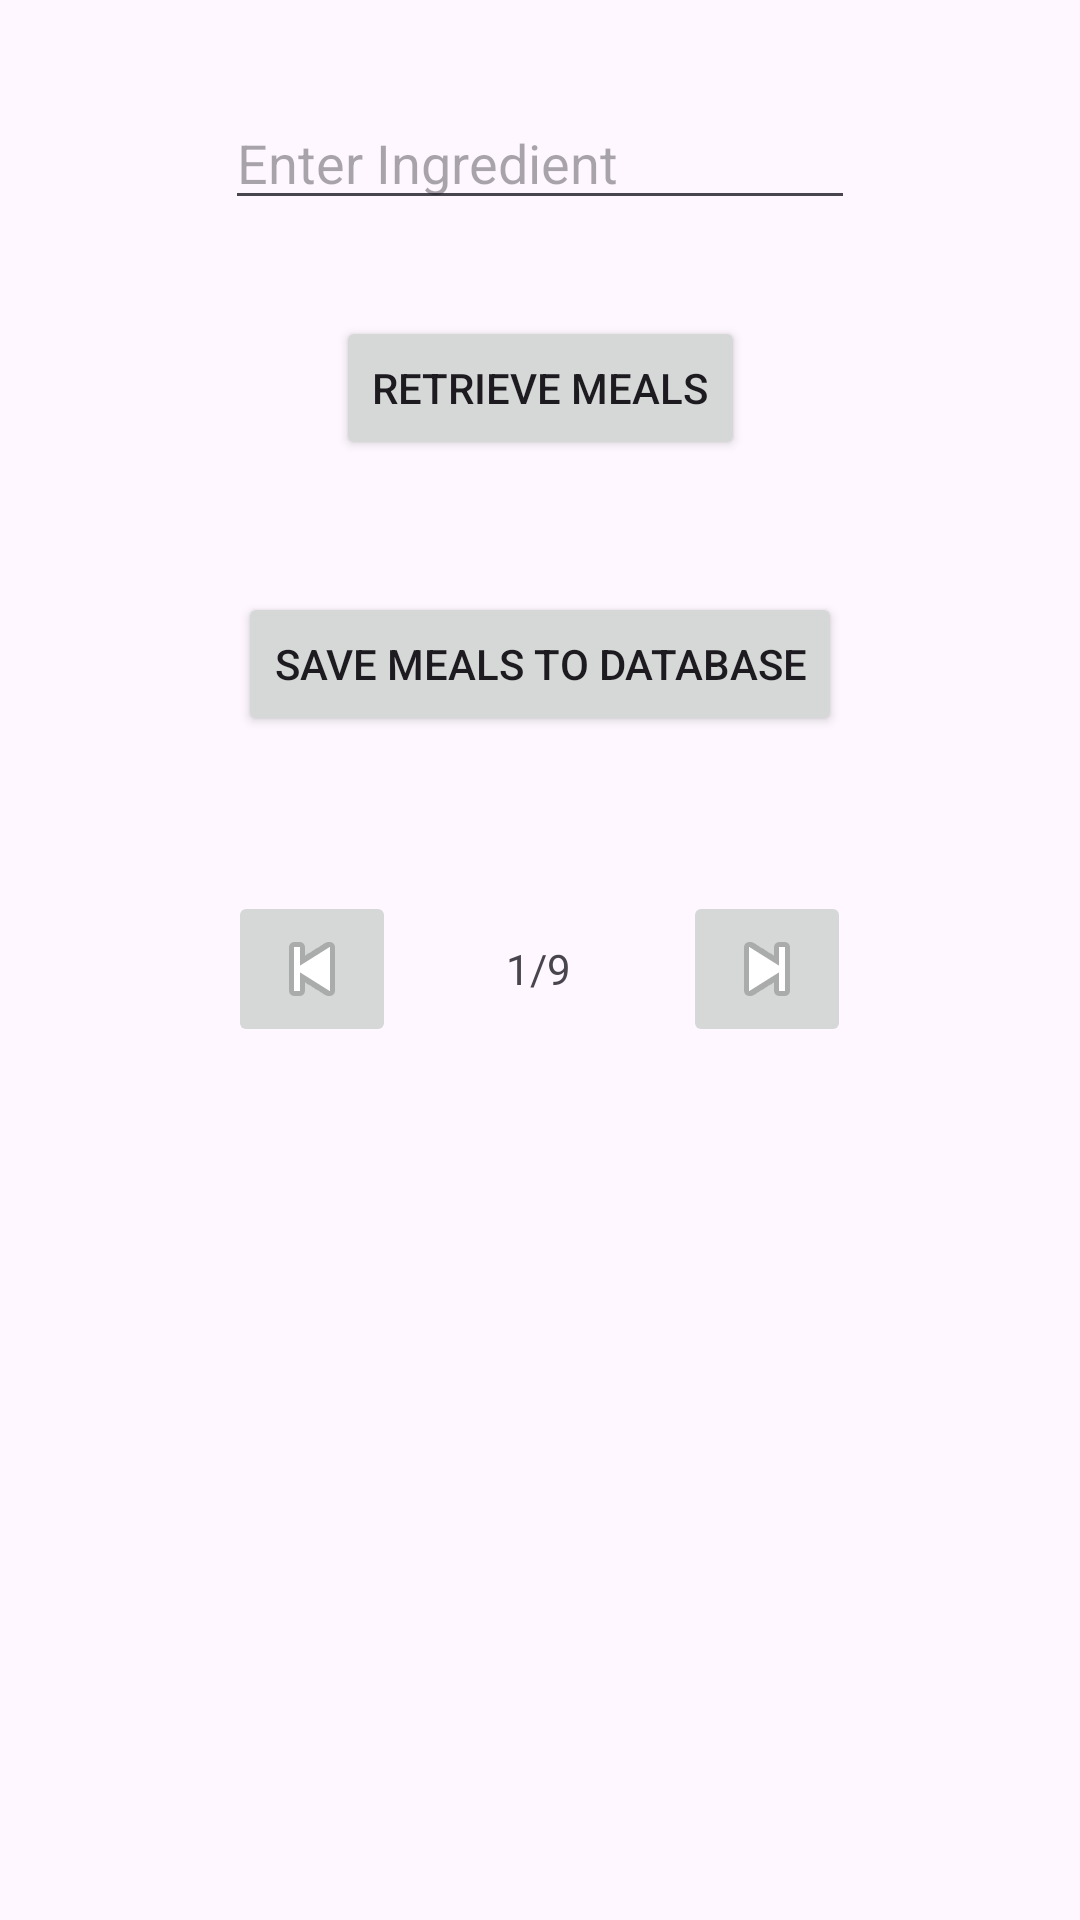

Icons on this 1080w x 1920h Android screen, each with the point to tap as (x,y):
next: (767,969)
previous: (312,969)
